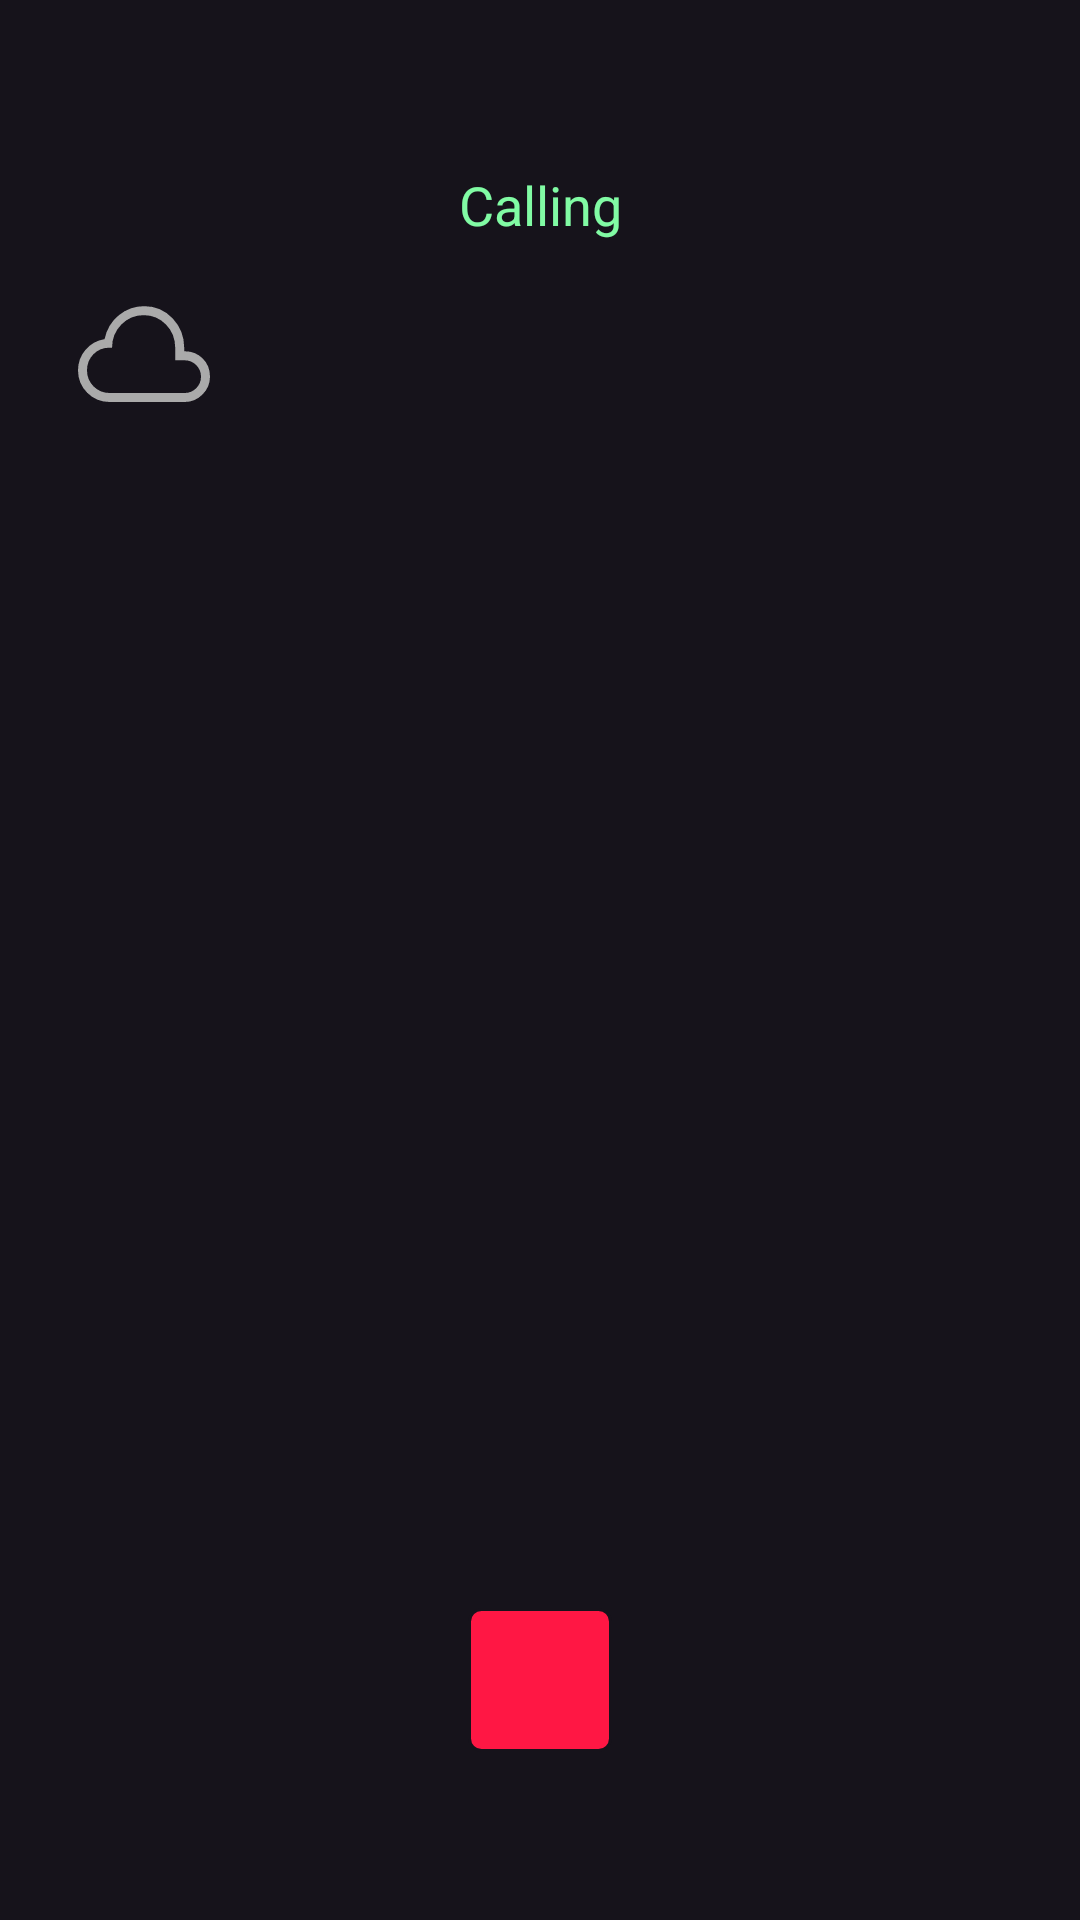

Point at icon controls on the screen. Image size 1080x1920, points as point (x, y).
cloud: point (144, 354)
